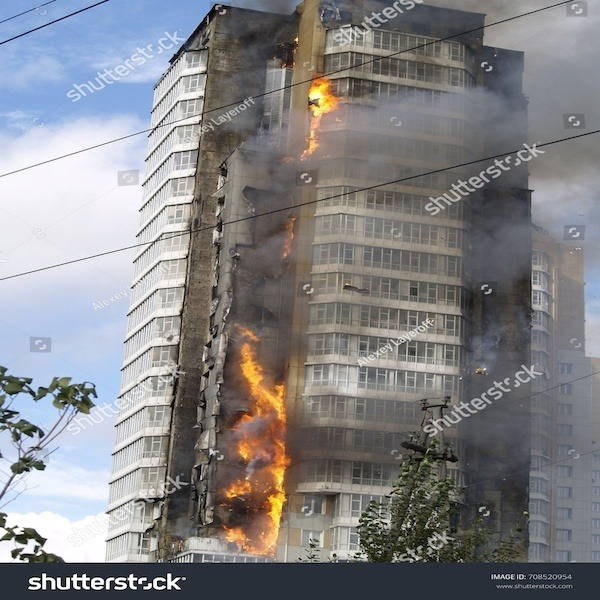fire: (231, 345, 286, 547), (308, 76, 347, 163)
